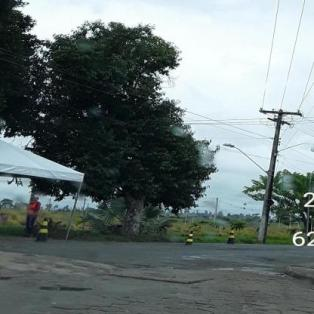Poste: (251, 108, 288, 245)
